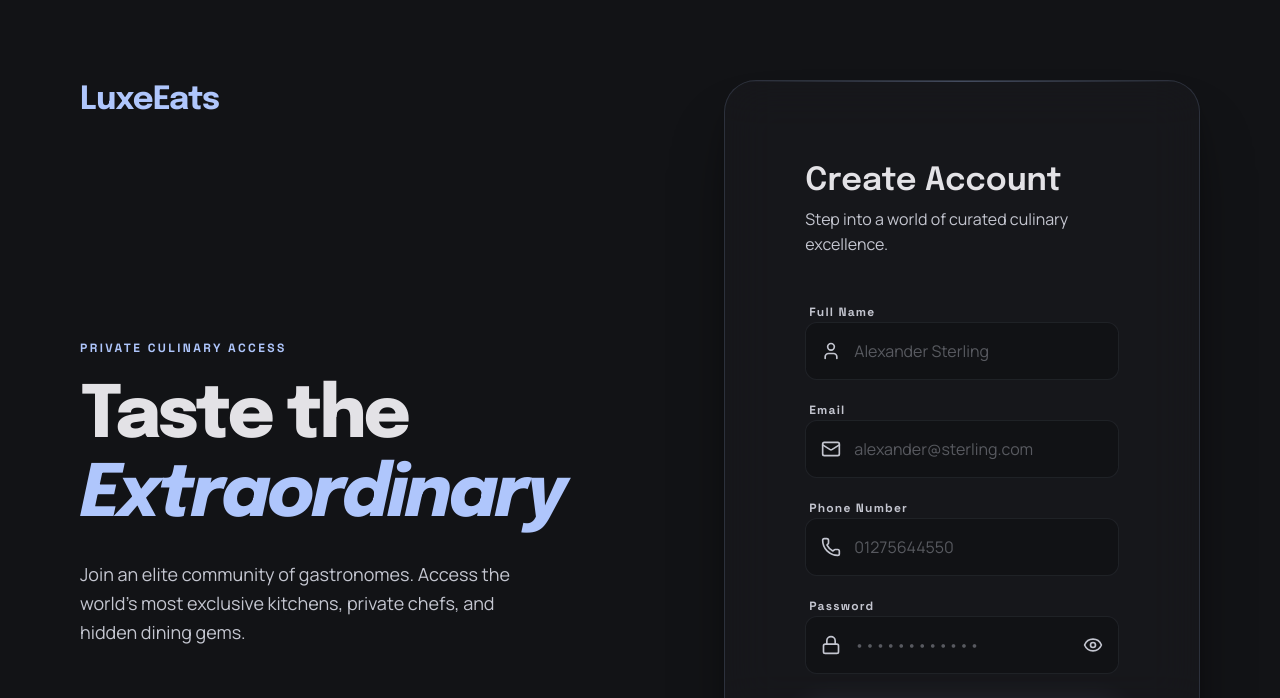
Test: RegisterPage › phone number validation › shows required error when phone number is left empty
Click the field labelled "Phone Number" at (962, 547), box 805,518 -> 1119,576
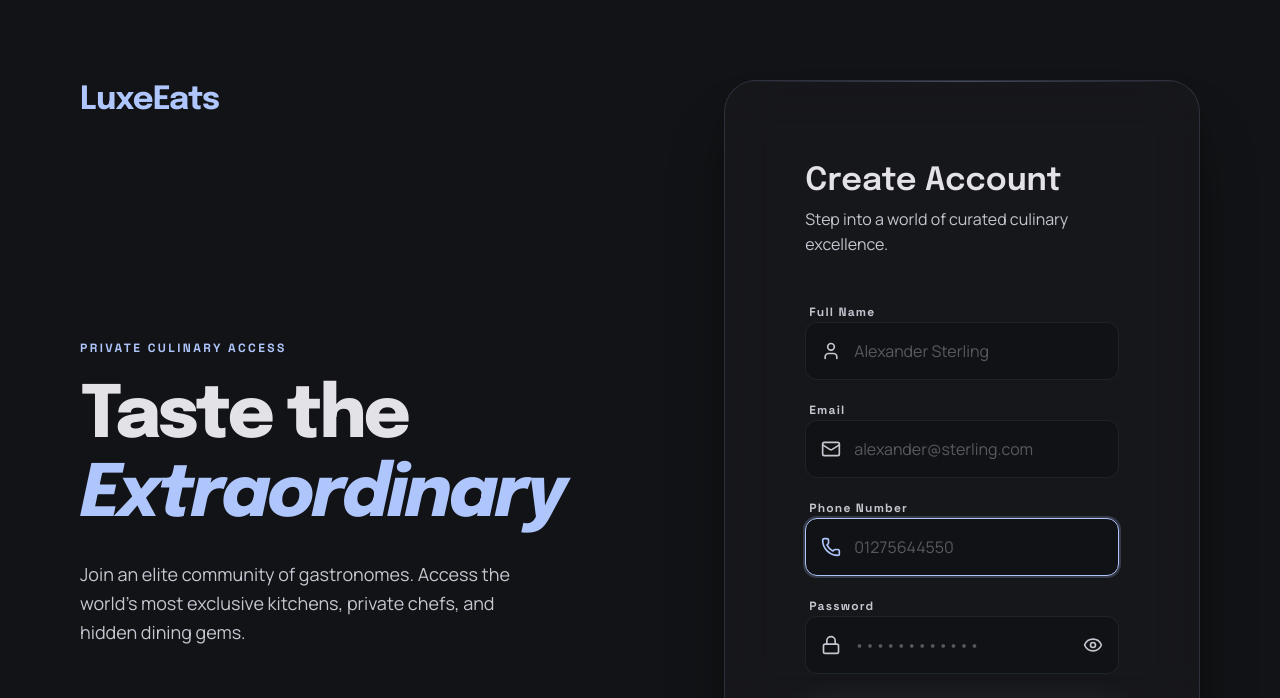
Press Tab
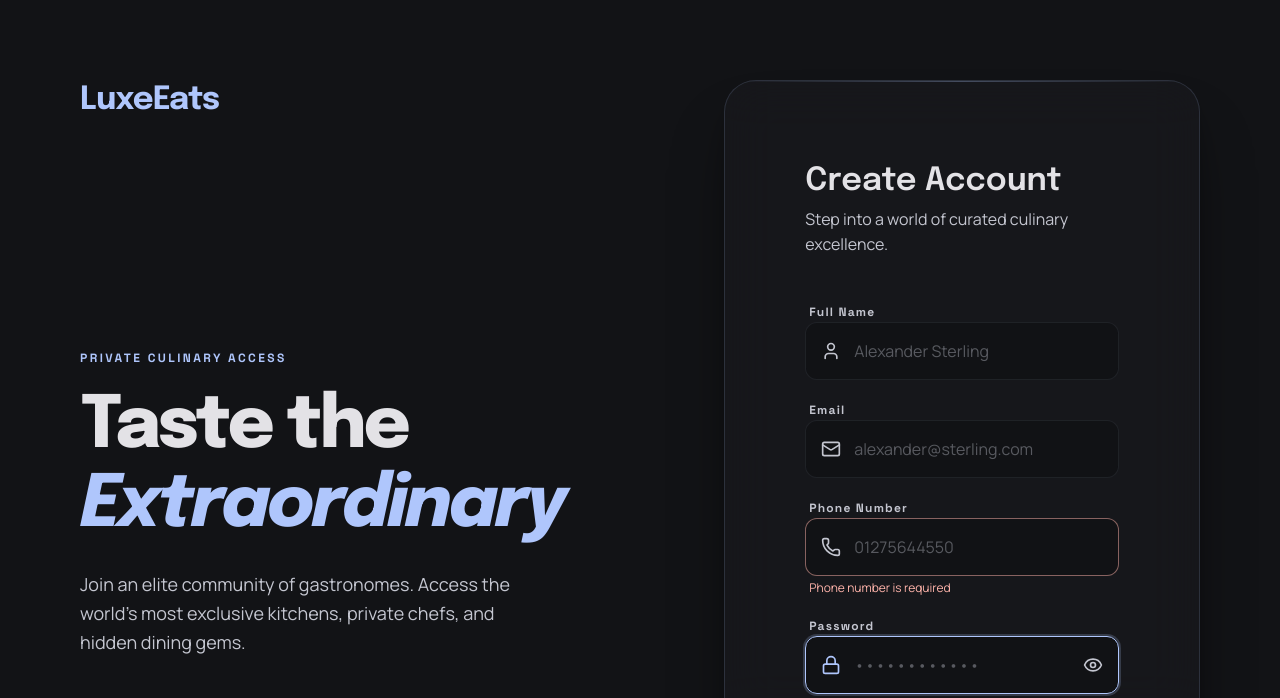
Now the text "Phone number is required" is shown, box 809,579 -> 951,596
